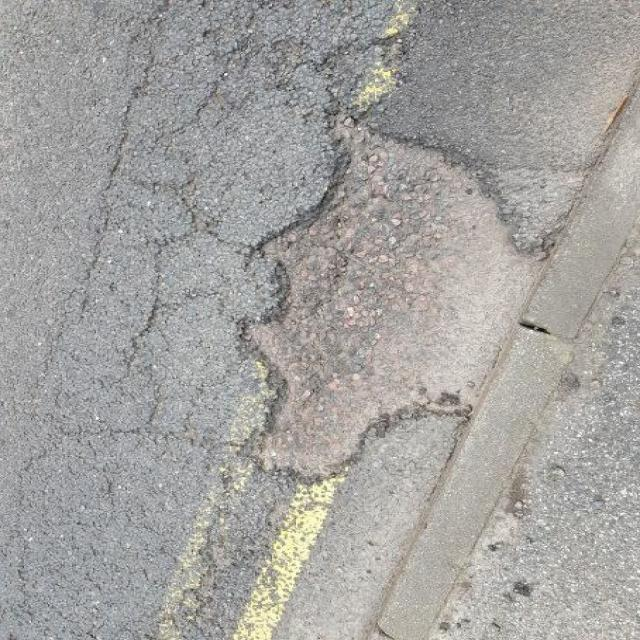Pothole: (225, 99, 552, 495)
